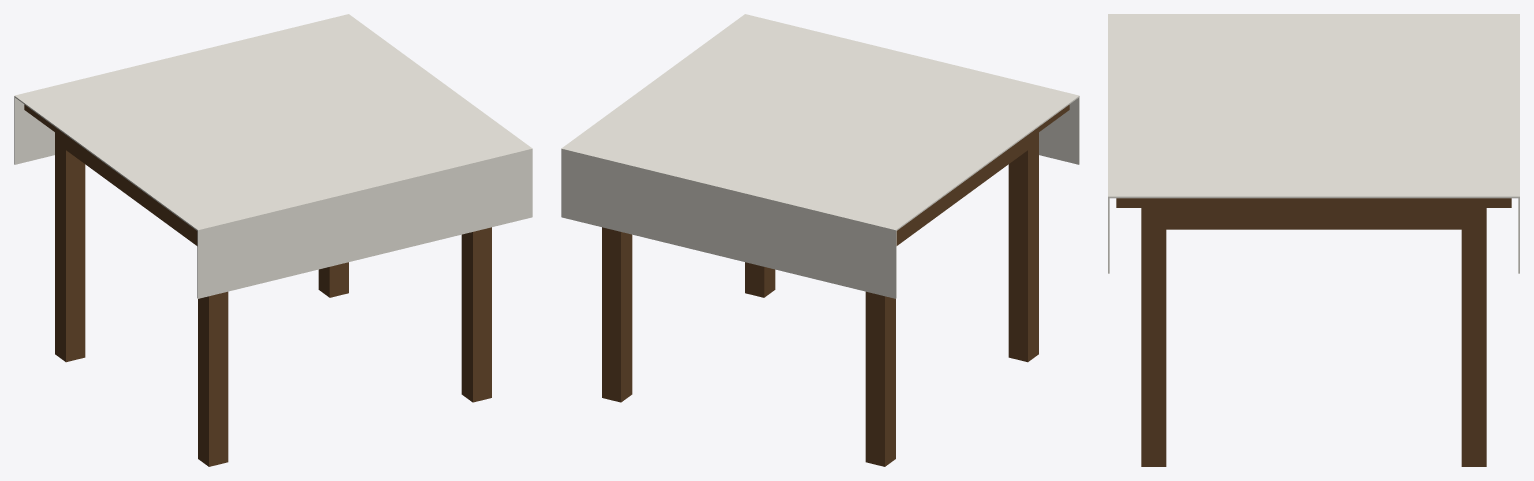
3 renders of one model, left to right at view 1: azimuth 30°, elevation 25°; view 2: azimuth 150°, elevation 25°; view 3: azimuth 270°, elevation 25°, orthographic. The views are drawn at different scales.
Parts seen in each view (by area): view 1: parametric-variant-table-1st-pub-11c26597743d9d14c2f5; view 2: parametric-variant-table-1st-pub-11c26597743d9d14c2f5; view 3: parametric-variant-table-1st-pub-11c26597743d9d14c2f5.
Boxes of the visible parts, x1,y1,x2,y2 form: parametric-variant-table-1st-pub-11c26597743d9d14c2f5: (14, 14, 532, 466); parametric-variant-table-1st-pub-11c26597743d9d14c2f5: (561, 14, 1079, 466); parametric-variant-table-1st-pub-11c26597743d9d14c2f5: (1108, 14, 1519, 466).
Bounding box in the file's own units: 1.04 × 0.754 × 0.99.
